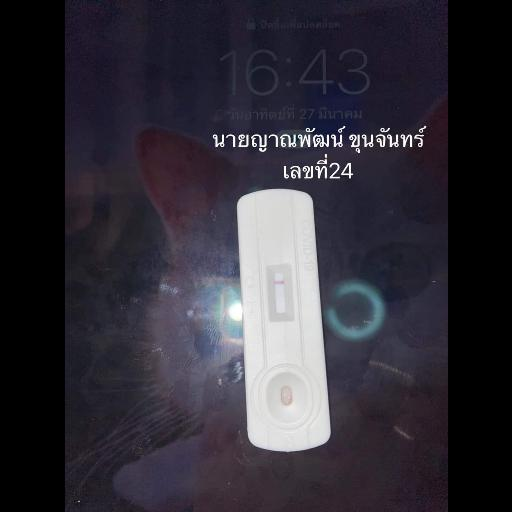Neg: (231, 188, 332, 454)
